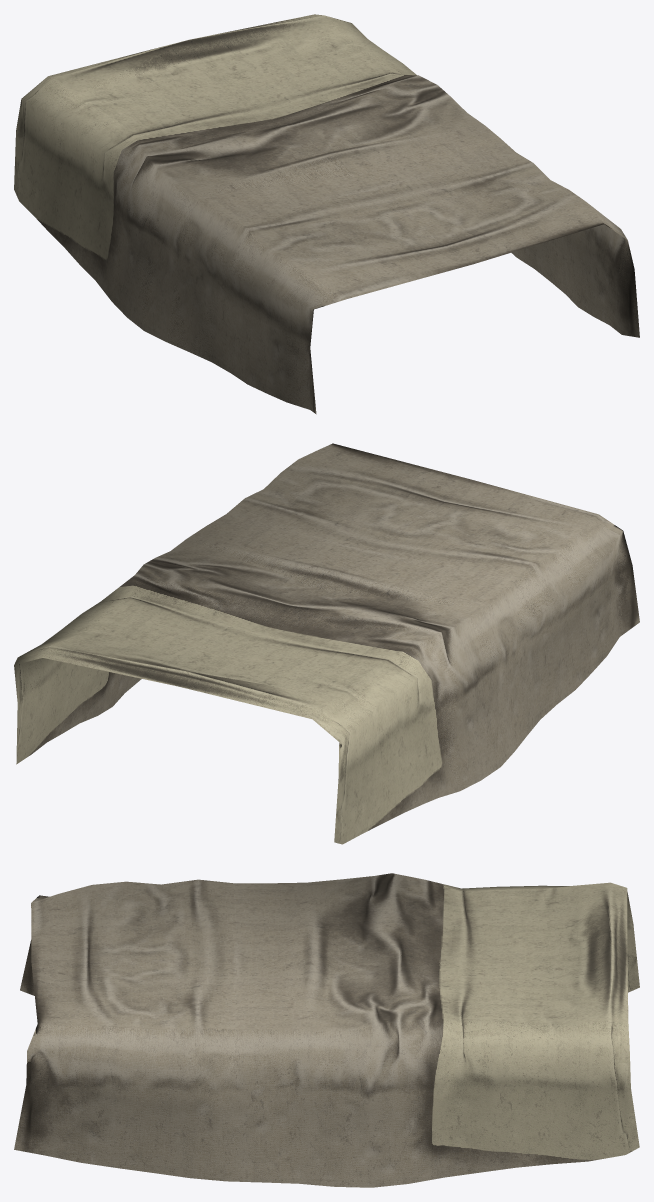
Rendered from Blanket.fbx.
3 views of the same model, one above another, from view 1: azimuth 30°, elevation 25°; view 2: azimuth 150°, elevation 25°; view 3: azimuth 270°, elevation 25° (orthographic). The views are drawn at different scales.
Visible parts, largest first — view 1: Blanket; view 2: Blanket; view 3: Blanket.
Part boxes in pixels (bbox=[...]): Blanket: bbox=[14, 14, 639, 414]; Blanket: bbox=[14, 443, 639, 844]; Blanket: bbox=[14, 873, 639, 1187].
Size of the model in its own units: 325 by 131 by 482.
1 material, 1 textured.
